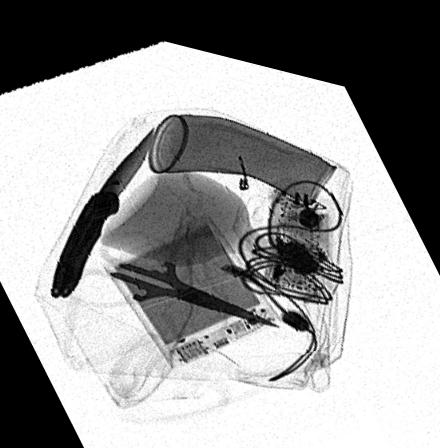Knife: (46, 112, 154, 297)
Powerbank: (96, 200, 277, 359)
Scissors: (56, 220, 283, 314)
